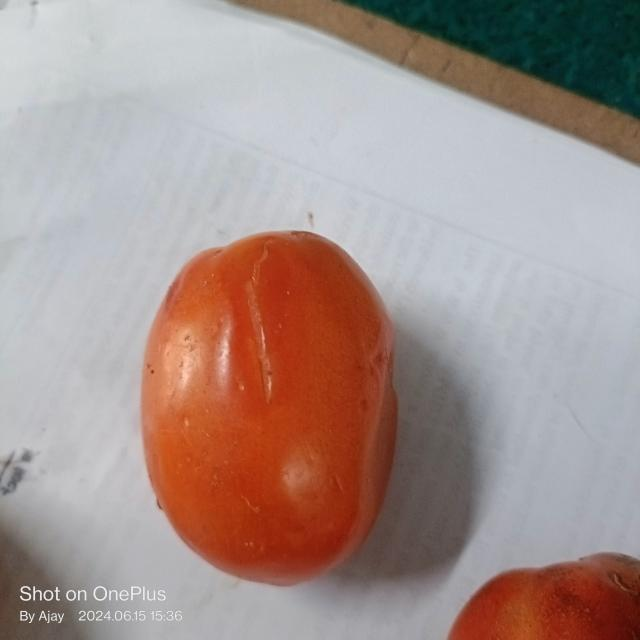Botrytis: (247, 238, 274, 406)
